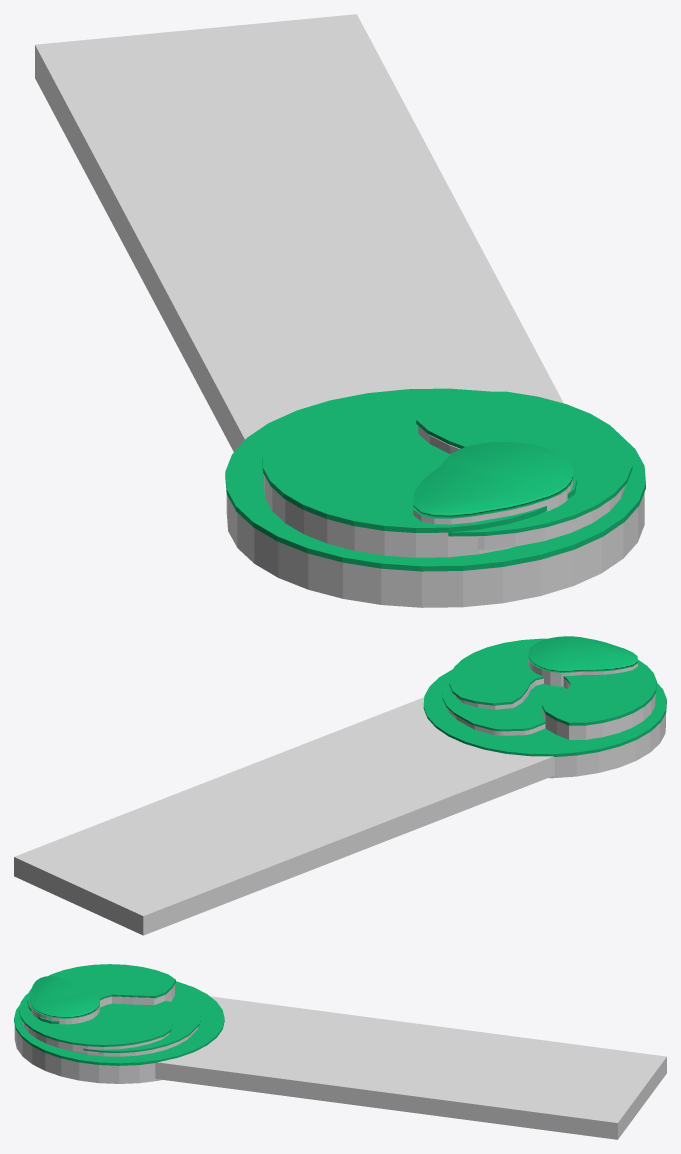
Rendered from kululachaho1.fbx.
The picture shows the model from 3 angles, top to bottom: view 1: azimuth 30°, elevation 25°; view 2: azimuth 150°, elevation 25°; view 3: azimuth 270°, elevation 25°; orthographic projection. The views are drawn at different scales.
Parts seen in each view (by area): view 1: Cube.004, Cylinder.013, Circle.011, Circle.010, Cylinder.007, Circle.012, Circle.007, Circle.009, Circle.006, Circle.008; view 2: Cube.004, Cylinder.007, Circle.011, Circle.010, Circle.012, Circle.009, Cylinder.013, Circle.007, Circle.008, Circle.005; view 3: Cube.004, Circle.010, Cylinder.007, Circle.011, Cylinder.013, Circle.012, Circle.009, Circle.006, Circle.007, Circle.005, Circle.008.
Part boxes in pixels (bbox=[...]): Cube.004: bbox=[35, 14, 563, 451]; Cylinder.013: bbox=[226, 492, 644, 607]; Circle.011: bbox=[262, 424, 576, 532]; Circle.010: bbox=[416, 391, 632, 536]; Cylinder.007: bbox=[225, 388, 645, 571]; Circle.012: bbox=[413, 442, 572, 518]; Circle.007: bbox=[264, 475, 514, 557]; Circle.009: bbox=[335, 392, 468, 466]; Circle.006: bbox=[418, 426, 625, 549]; Circle.008: bbox=[413, 480, 572, 524]; Cube.004: bbox=[14, 697, 554, 935]; Cylinder.007: bbox=[423, 669, 666, 756]; Circle.011: bbox=[542, 660, 656, 725]; Circle.010: bbox=[449, 638, 547, 705]; Circle.012: bbox=[528, 636, 637, 672]; Circle.009: bbox=[442, 676, 566, 731]; Cylinder.013: bbox=[549, 713, 665, 778]; Circle.007: bbox=[542, 678, 655, 739]; Circle.008: bbox=[528, 658, 637, 686]; Circle.005: bbox=[444, 704, 545, 735]; Cube.004: bbox=[155, 996, 666, 1139]; Circle.010: bbox=[19, 993, 172, 1046]; Cylinder.007: bbox=[14, 981, 224, 1065]; Circle.011: bbox=[27, 964, 175, 1023]; Cylinder.013: bbox=[14, 1025, 161, 1083]; Circle.012: bbox=[30, 976, 99, 1018]; Circle.009: bbox=[83, 1001, 200, 1052]; Circle.006: bbox=[23, 1022, 169, 1053]; Circle.007: bbox=[100, 984, 174, 1007]; Circle.005: bbox=[69, 1027, 197, 1056]; Circle.008: bbox=[30, 1002, 99, 1024].
Bounding box in the file's own units: 1749 × 235 × 3284.
